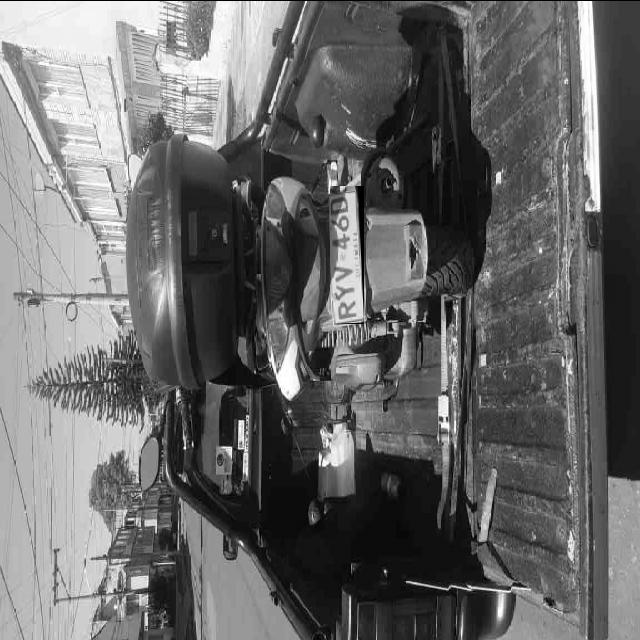plate: (330, 185, 364, 323)
